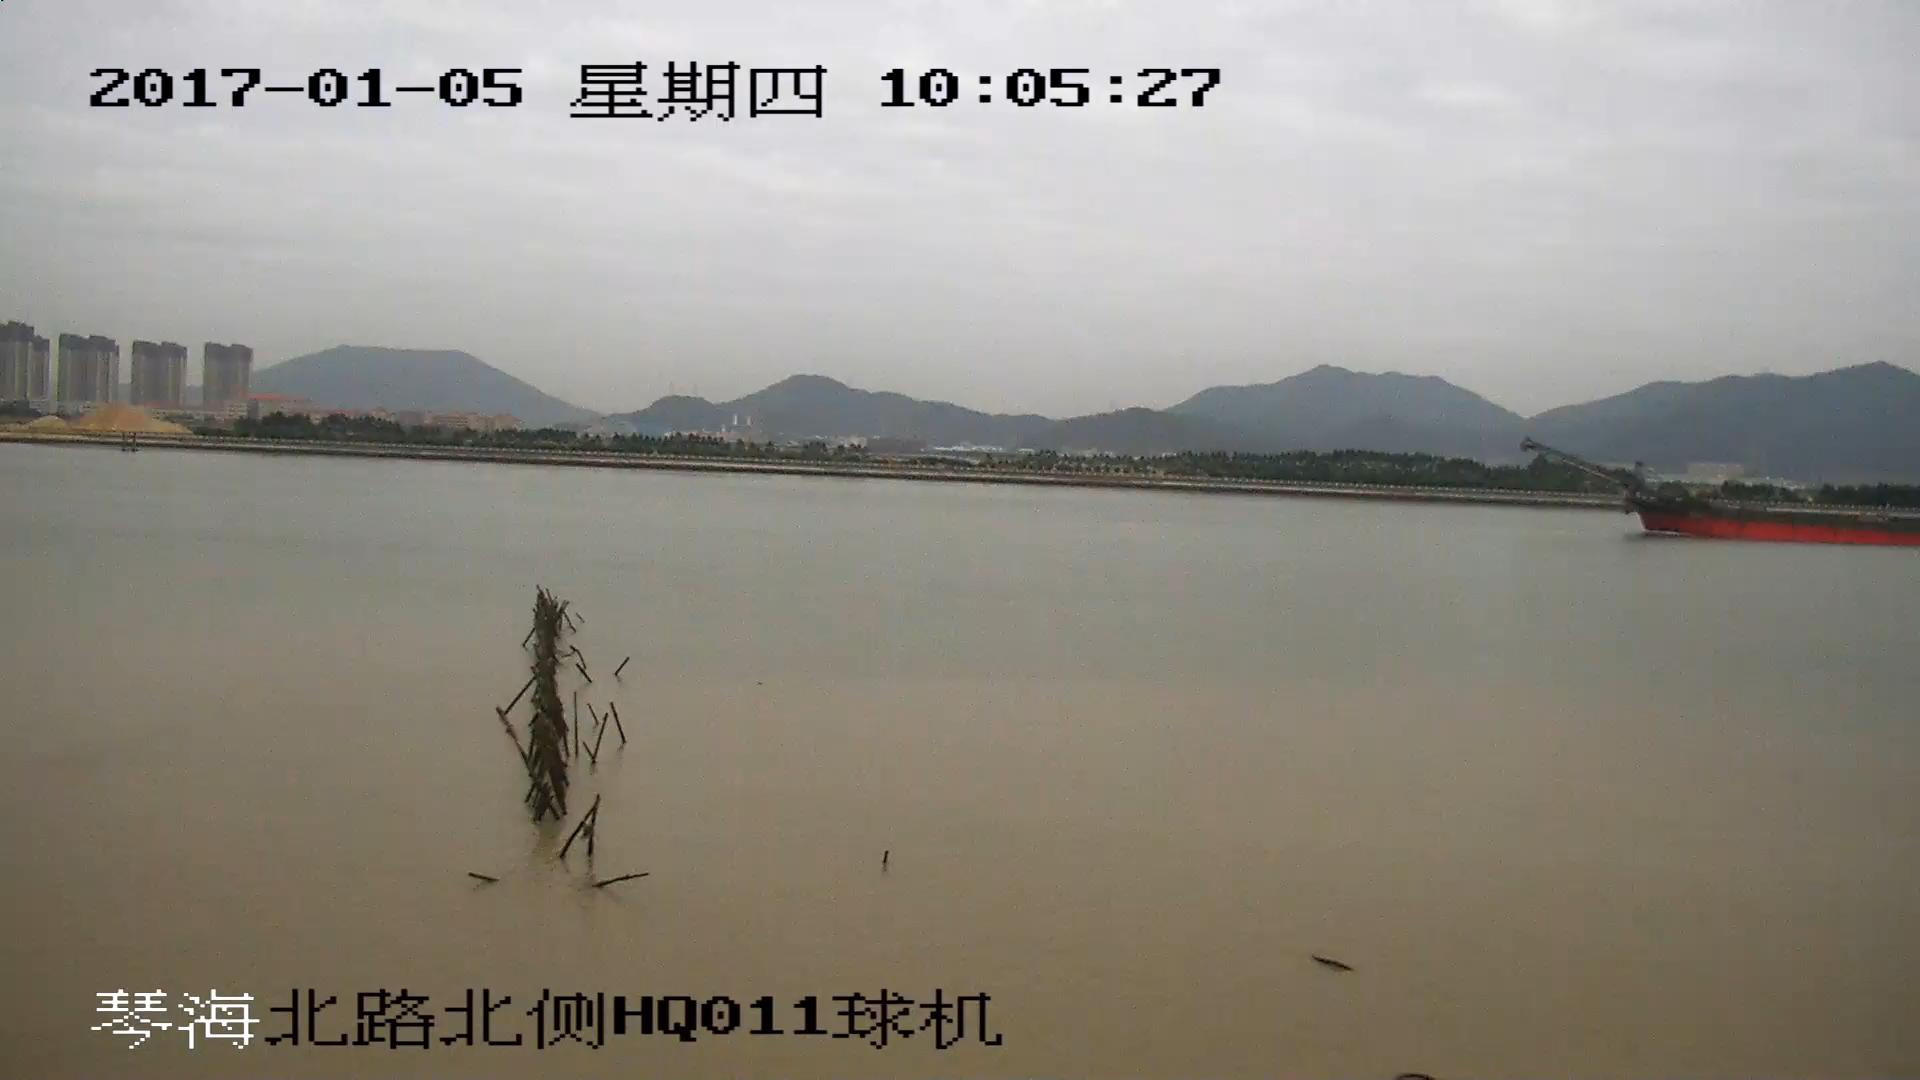bulk cargo carrier: (1525, 442, 1920, 546)
